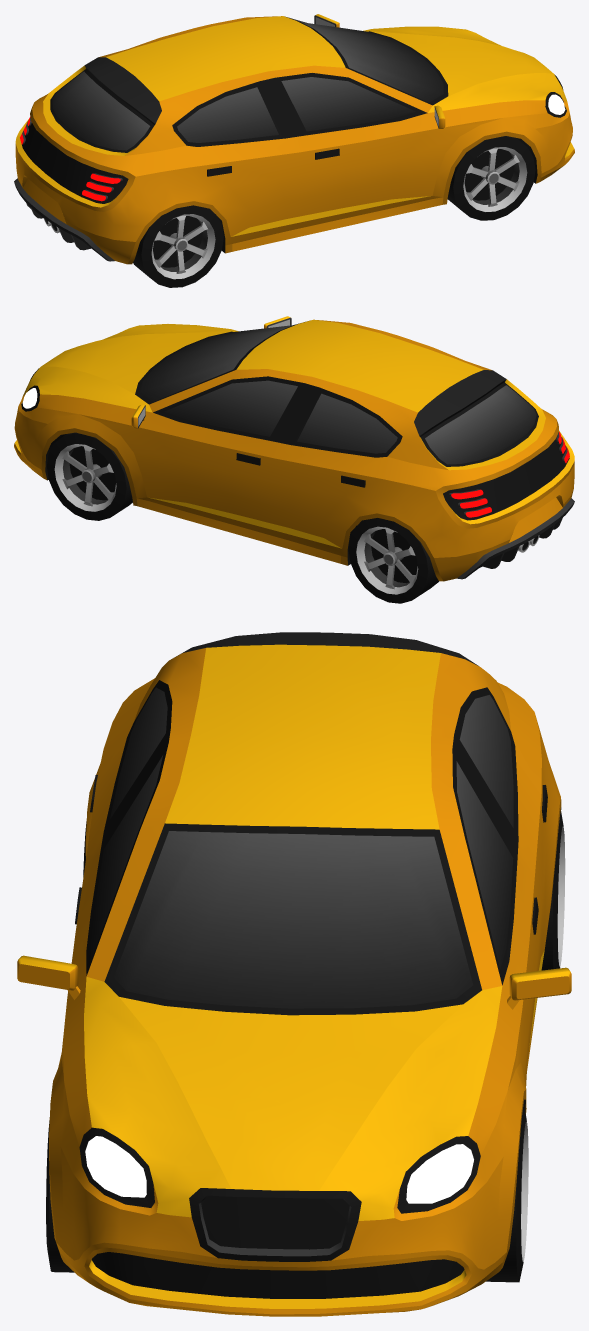
The model's file is Car_216.glb.
3 renders of one model, top to bottom at view 1: azimuth 30°, elevation 25°; view 2: azimuth 150°, elevation 25°; view 3: azimuth 270°, elevation 25°, orthographic. The views are drawn at different scales.
Visible parts, largest first — view 1: Car_216, wheel_1_Car_216_Wheel_1R, wheel_3_Car_216_Wheel_3R; view 2: Car_216, wheel_0_Car_216_Wheel_1L, wheel_2_Car_216_Wheel_2L; view 3: Car_216, wheel_0_Car_216_Wheel_1L, wheel_2_Car_216_Wheel_2L, wheel_1_Car_216_Wheel_1R.
Part boxes in pixels (x1,y1,x2,y2): Car_216: (14,14,574,264); wheel_1_Car_216_Wheel_1R: (447,136,535,220); wheel_3_Car_216_Wheel_3R: (133,205,223,287); Car_216: (14,316,574,581); wheel_0_Car_216_Wheel_1L: (46,432,132,520); wheel_2_Car_216_Wheel_2L: (348,518,439,603); Car_216: (17,632,571,1316); wheel_0_Car_216_Wheel_1L: (486,1102,528,1282); wheel_2_Car_216_Wheel_2L: (541,809,565,970); wheel_1_Car_216_Wheel_1R: (46,1120,74,1272).
Bounding box in the file's own units: 4.24 × 1.41 × 2.03.
Materials: 2 (2 with a texture image).
